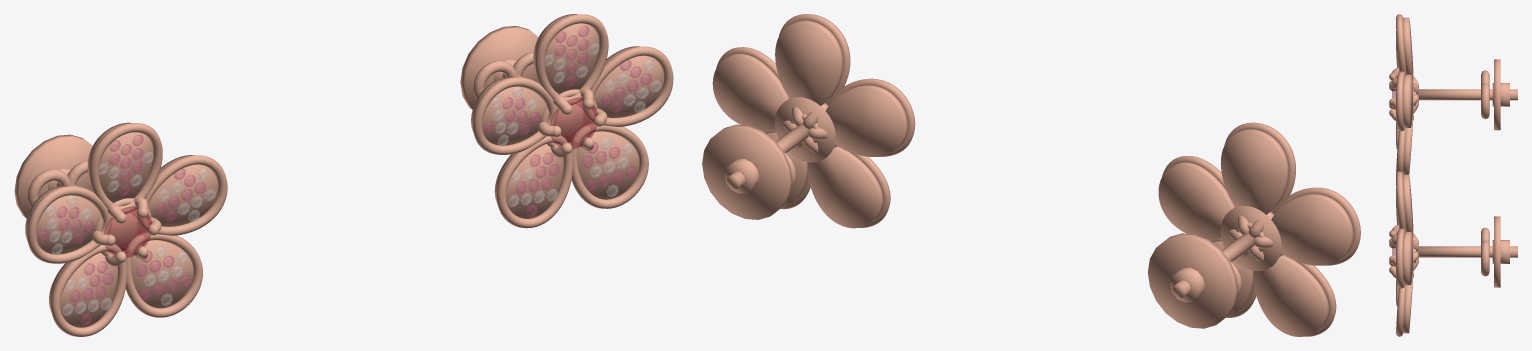
File: Earring_Blossom_Preview.glb
3 views of the same model, side by side, from view 1: azimuth 30°, elevation 25°; view 2: azimuth 150°, elevation 25°; view 3: azimuth 270°, elevation 25° (orthographic). The views are drawn at different scales.
Visible parts, largest first — view 1: Halo_Petals.001, Halo_Petals, AccentPink_Pave.001, AccentPink_Pave, Attach_Back, Attach_Back.001, Accent_Pave.001, Accent_Pave, Head_Center, Head_Center.001, PreviewGem_Center, PreviewGem_Pair; view 2: Halo_Petals, Halo_Petals.001, Attach_Back.001, Attach_Back, Head_Center, Head_Center.001, Attach_Post, Attach_Post.001; view 3: Halo_Petals, Halo_Petals.001, Attach_Back.001, Attach_Back, Attach_Post, Attach_Post.001, Head_Center, Head_Center.001.
Part boxes in pixels (x1=…): Halo_Petals.001: x1=25, y1=122, x2=227, y2=336; Halo_Petals: x1=471, y1=14, x2=673, y2=228; AccentPink_Pave.001: x1=38, y1=134, x2=205, y2=324; AccentPink_Pave: x1=484, y1=26, x2=651, y2=216; Attach_Back: x1=460, y1=26, x2=538, y2=109; Attach_Back.001: x1=14, y1=134, x2=92, y2=218; Accent_Pave.001: x1=45, y1=152, x2=215, y2=315; Accent_Pave: x1=491, y1=43, x2=661, y2=206; Head_Center: x1=537, y1=88, x2=607, y2=157; Head_Center.001: x1=92, y1=197, x2=161, y2=266; PreviewGem_Center: x1=550, y1=98, x2=597, y2=148; PreviewGem_Pair: x1=104, y1=206, x2=151, y2=257; Halo_Petals: x1=712, y1=14, x2=915, y2=228; Halo_Petals.001: x1=1158, y1=122, x2=1360, y2=336; Attach_Back.001: x1=1147, y1=233, x2=1241, y2=328; Attach_Back: x1=702, y1=124, x2=796, y2=219; Head_Center: x1=782, y1=103, x2=827, y2=153; Head_Center.001: x1=1228, y1=212, x2=1273, y2=261; Attach_Post: x1=726, y1=125, x2=808, y2=189; Attach_Post.001: x1=1172, y1=233, x2=1254, y2=298; Halo_Petals: x1=1396, y1=171, x2=1413, y2=336; Halo_Petals.001: x1=1396, y1=14, x2=1413, y2=174; Attach_Back.001: x1=1481, y1=59, x2=1509, y2=130; Attach_Back: x1=1481, y1=216, x2=1509, y2=287; Attach_Post: x1=1417, y1=246, x2=1517, y2=257; Attach_Post.001: x1=1417, y1=89, x2=1517, y2=100; Head_Center: x1=1389, y1=225, x2=1418, y2=278; Head_Center.001: x1=1389, y1=67, x2=1418, y2=120.
Size of the model in its own units: 0.0405 by 0.0122 by 0.00969.
